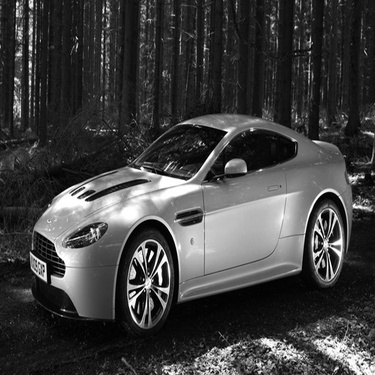car: (21, 108, 357, 338)
